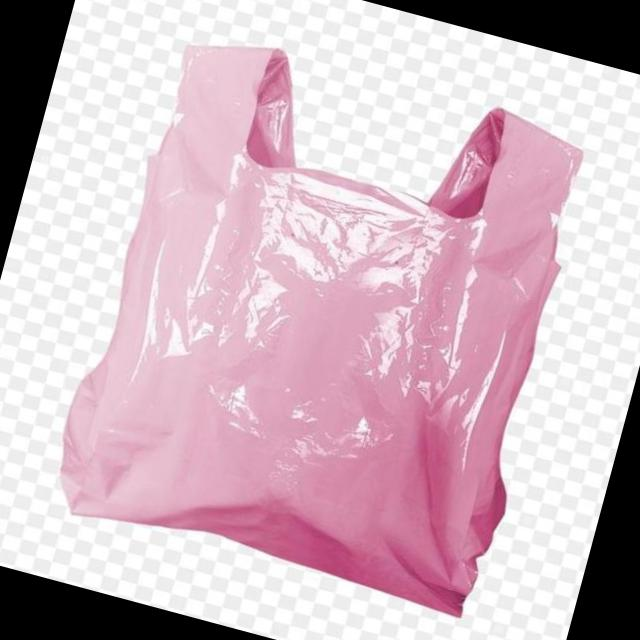KantongPlastik: (41, 16, 606, 624)
